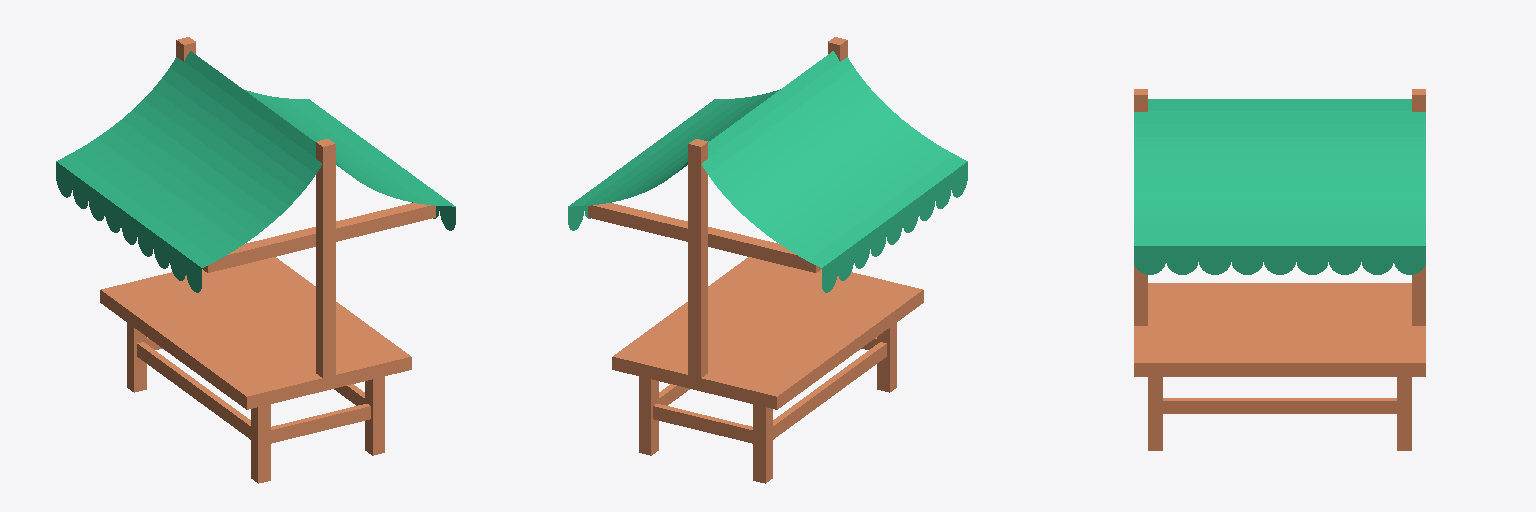
The model's file is stallGreen.obj.
3 views of the same model, side by side, from view 1: azimuth 30°, elevation 25°; view 2: azimuth 150°, elevation 25°; view 3: azimuth 270°, elevation 25° (orthographic).
Visible parts, largest first — view 1: stallGreen; view 2: stallGreen; view 3: stallGreen.
Part boxes in pixels (x1,y1,x2,y2): stallGreen: (56,37,455,483); stallGreen: (568,37,967,483); stallGreen: (1134,89,1425,450).
Size of the model in its own units: 1 by 1.24 by 1.